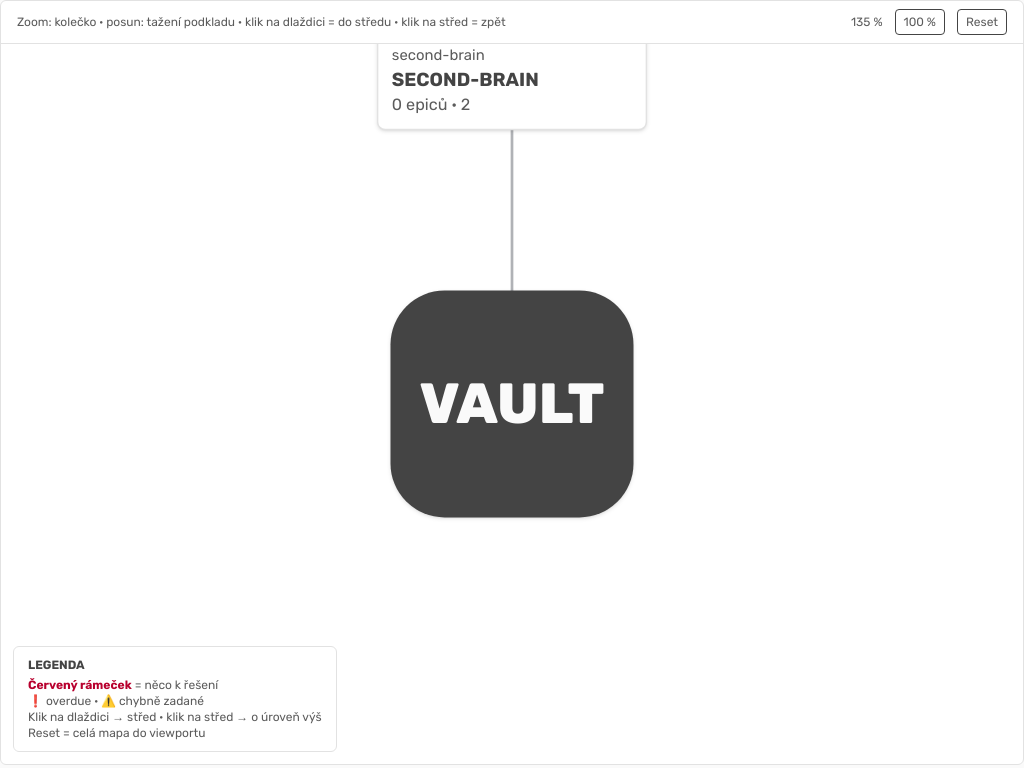
it: MindMap › listový task ukáže status; bez statusu žádný meta řádek (ne „task“ ani „—“)
The width and height of the screenshot is (1024, 768).
Click the button "second-brain SECOND-BRAIN 0 epiců · 2".
click(512, 80)  # box [377,30,647,130]
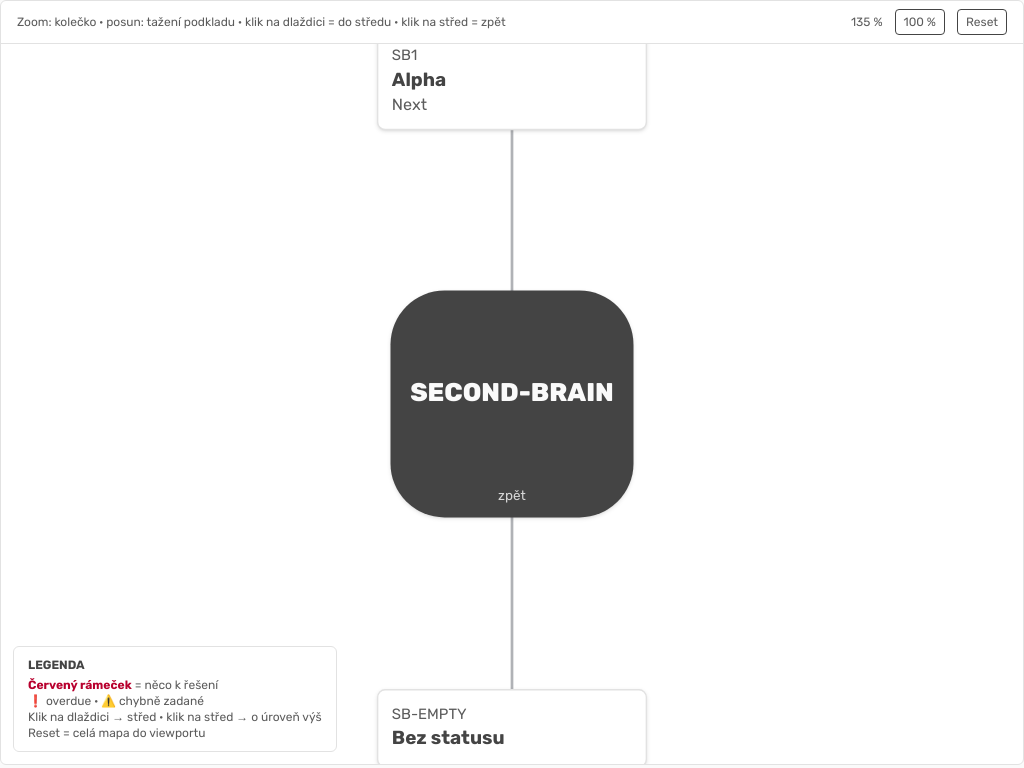
Expected: the button "SB1 Alpha Next" is shown, [377,44,647,130]
Expected: the button "SB-EMPTY Bez statusu" is shown, [377,689,647,764]
